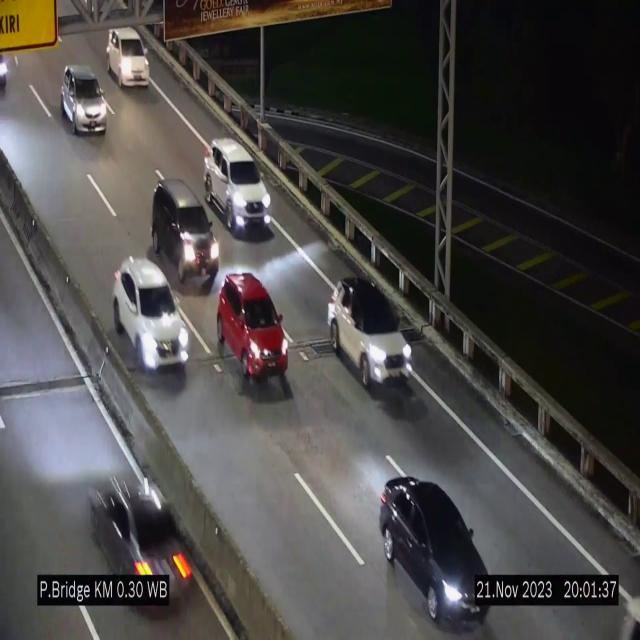Car: (375, 471, 500, 623), (87, 466, 199, 630), (327, 274, 411, 388), (217, 268, 289, 392), (113, 257, 189, 371), (155, 177, 223, 280), (203, 139, 272, 235), (61, 65, 107, 134), (107, 27, 150, 88)
